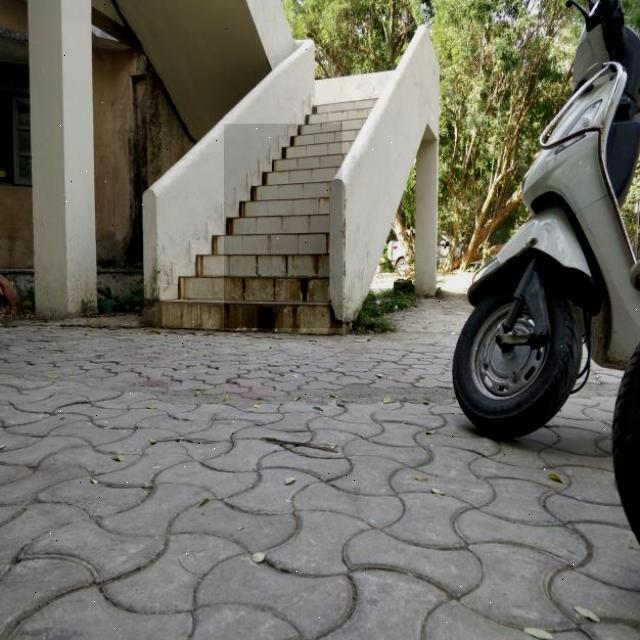stair: (224, 124, 342, 328)
